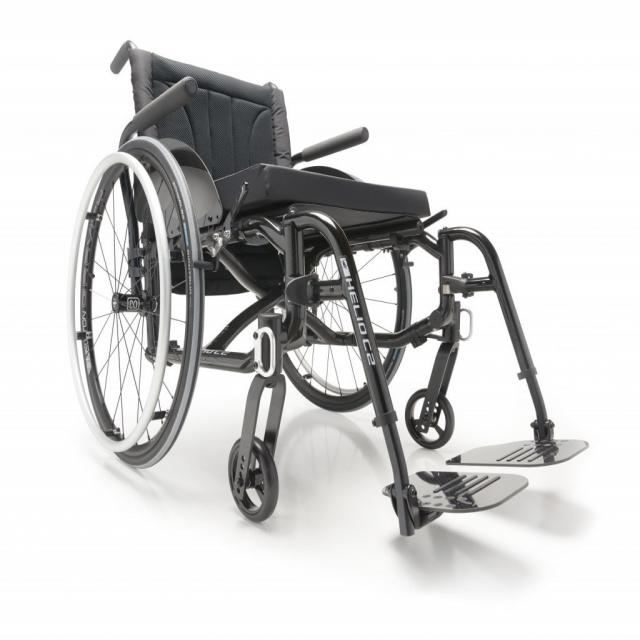wheelchair: (61, 31, 596, 561)
